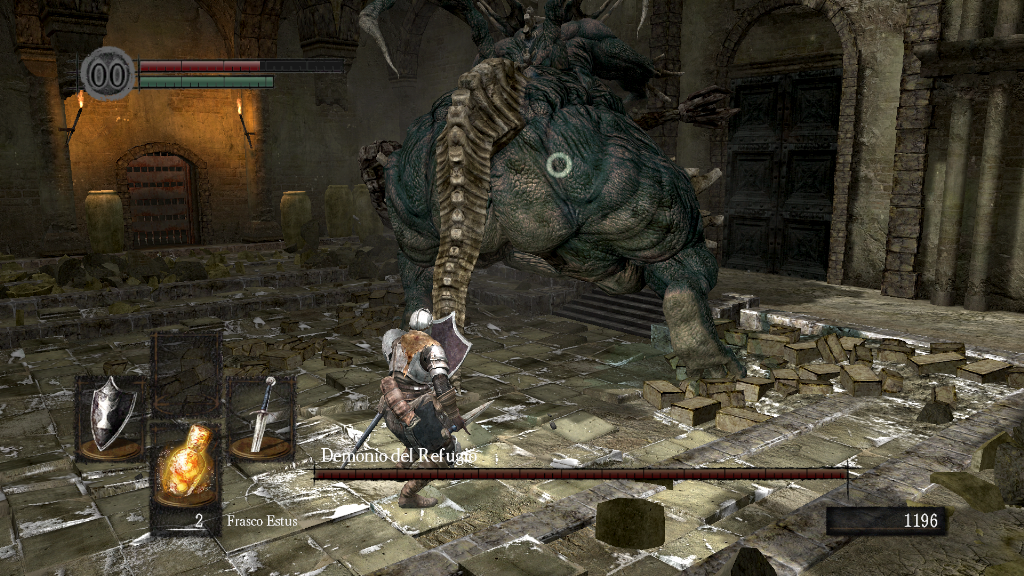asylumDemon: (353, 4, 757, 383)
bossHP: (314, 469, 847, 479)
health: (138, 58, 343, 71)
humanity: (80, 45, 136, 102)
player: (379, 307, 495, 511)
souls: (825, 506, 945, 536)
stamina: (138, 74, 274, 88)
